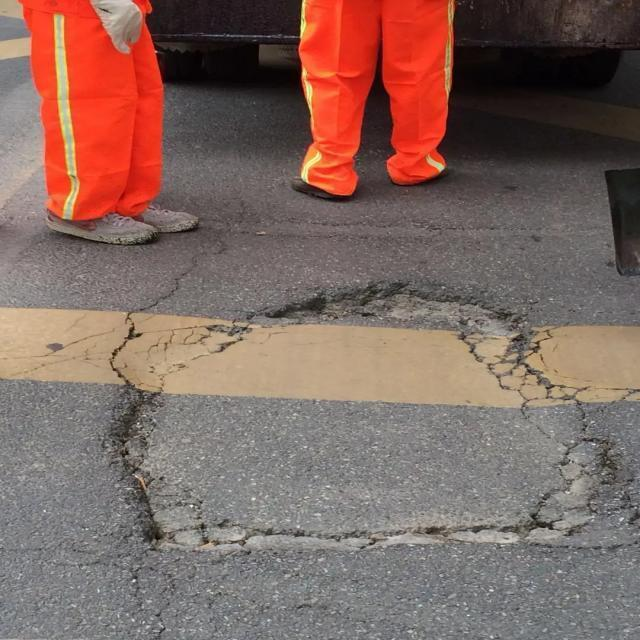pothole: (104, 282, 619, 559)
